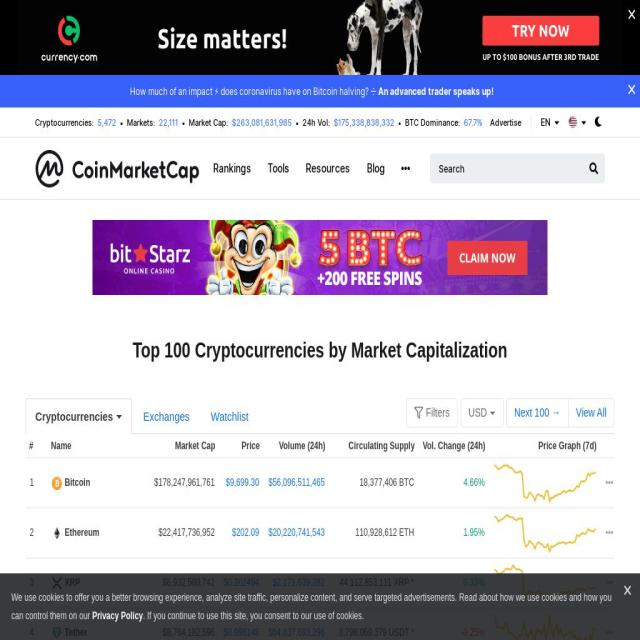button: (34, 149, 200, 188), (493, 464, 596, 504), (493, 514, 596, 554), (493, 564, 596, 604), (493, 613, 596, 640), (134, 399, 199, 433), (201, 399, 258, 433), (506, 398, 568, 428), (406, 398, 458, 428), (567, 398, 615, 428), (460, 398, 504, 428), (538, 111, 562, 133), (564, 111, 588, 133), (64, 526, 100, 540), (64, 476, 90, 490), (64, 626, 88, 640), (64, 576, 80, 590)
field: (430, 154, 606, 184)
heading: (25, 335, 615, 365)
iframe: (17, 0, 623, 75), (92, 220, 547, 295)
image: (34, 149, 200, 188), (493, 464, 596, 504), (493, 514, 596, 554), (493, 564, 596, 604), (493, 613, 596, 640), (51, 476, 62, 490), (51, 526, 62, 540), (51, 576, 62, 590), (51, 626, 62, 640), (568, 115, 576, 126)
link: (378, 85, 493, 97), (231, 116, 292, 128), (334, 116, 394, 128), (268, 477, 325, 488), (268, 527, 325, 538), (268, 627, 325, 638), (92, 610, 144, 622), (273, 577, 325, 588), (223, 577, 259, 588), (223, 627, 259, 638), (490, 116, 522, 128), (226, 477, 260, 488), (232, 527, 259, 538), (366, 162, 385, 175), (158, 116, 178, 128), (463, 116, 483, 128), (97, 116, 116, 128)
text: (11, 592, 612, 622), (130, 85, 378, 97), (488, 434, 600, 458), (142, 610, 364, 622), (47, 434, 150, 458), (329, 434, 419, 458), (334, 471, 414, 495), (334, 521, 414, 545), (334, 571, 414, 595), (418, 434, 489, 458), (150, 434, 220, 458), (263, 434, 329, 458), (334, 621, 414, 640), (423, 471, 485, 495), (423, 521, 485, 545), (423, 571, 485, 595), (154, 471, 215, 495), (154, 521, 215, 545), (154, 571, 215, 595), (35, 409, 123, 423), (423, 621, 485, 640), (154, 621, 215, 640), (218, 434, 264, 458), (615, 573, 640, 607), (306, 159, 350, 178), (212, 159, 252, 178), (34, 116, 92, 128), (404, 116, 458, 128), (25, 434, 47, 458), (188, 116, 226, 128), (268, 159, 290, 178), (623, 79, 640, 103), (29, 471, 43, 495), (29, 521, 43, 545), (29, 571, 43, 595), (126, 116, 153, 128), (302, 116, 328, 128), (426, 406, 450, 419), (29, 621, 43, 640), (627, 5, 637, 23), (541, 116, 551, 128), (91, 116, 98, 128), (152, 116, 158, 128), (226, 116, 232, 128), (328, 116, 333, 128), (458, 116, 463, 128)
